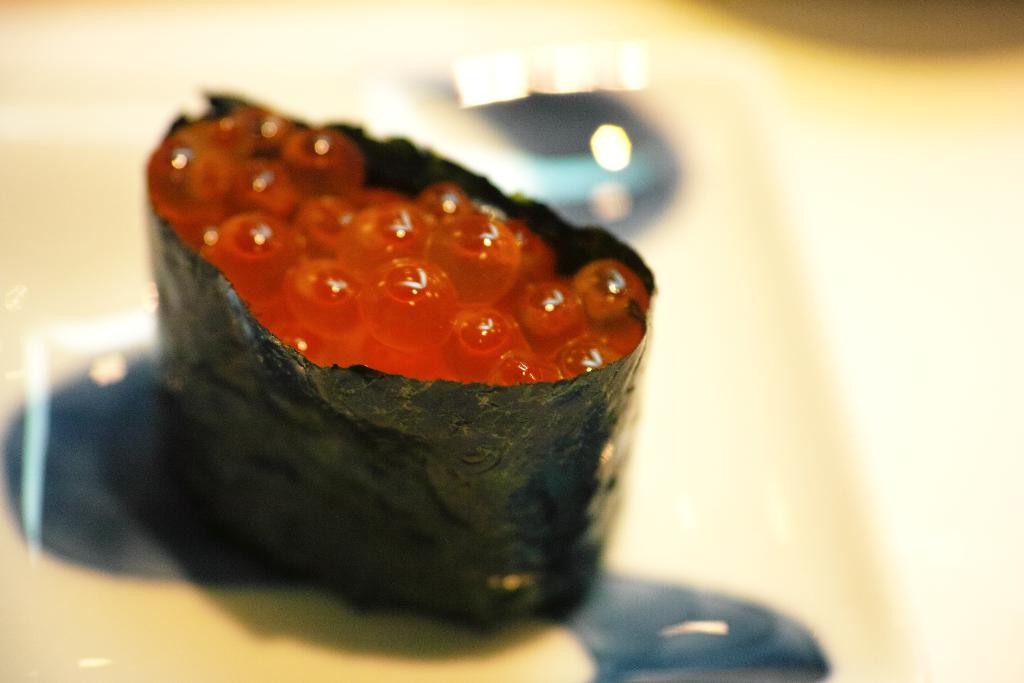sushi: (157, 99, 653, 614)
